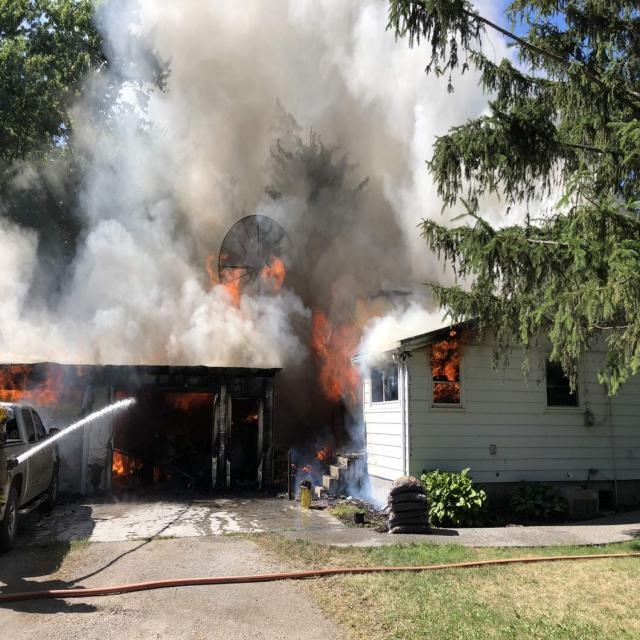Fire: (312, 314, 358, 399), (1, 367, 58, 407), (428, 338, 462, 402)
Smoke: (114, 5, 424, 212), (2, 224, 206, 358), (306, 219, 428, 305), (212, 294, 302, 370)
